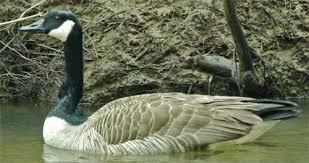goose: (13, 8, 305, 156)
